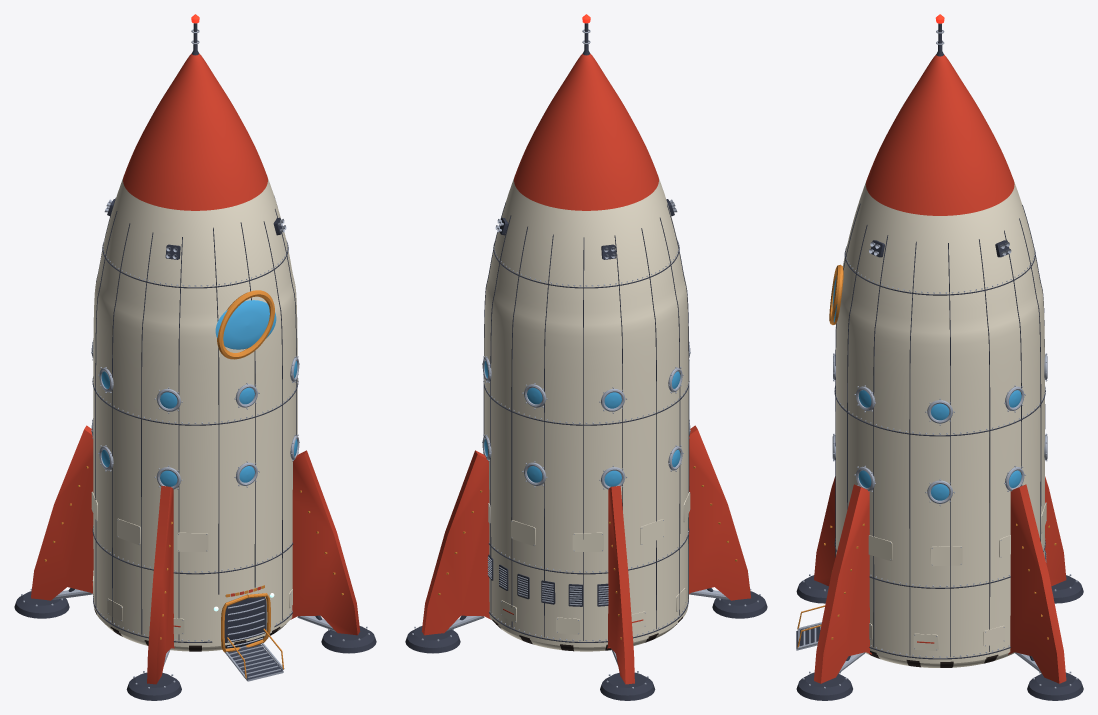
The model's file is rocket.glb.
3 views of the same model, side by side, from view 1: azimuth 30°, elevation 25°; view 2: azimuth 150°, elevation 25°; view 3: azimuth 270°, elevation 25° (orthographic). The views are drawn at different scales.
Visible parts, largest first — view 1: Rocket_Hull; view 2: Rocket_Hull; view 3: Rocket_Hull.
Part boxes in pixels (left/top/right/bottom): Rocket_Hull: left=14, top=14, right=376, bottom=700; Rocket_Hull: left=405, top=14, right=767, bottom=700; Rocket_Hull: left=796, top=14, right=1083, bottom=700.
Size of the model in its own units: 16.21 by 39.1 by 16.23.
